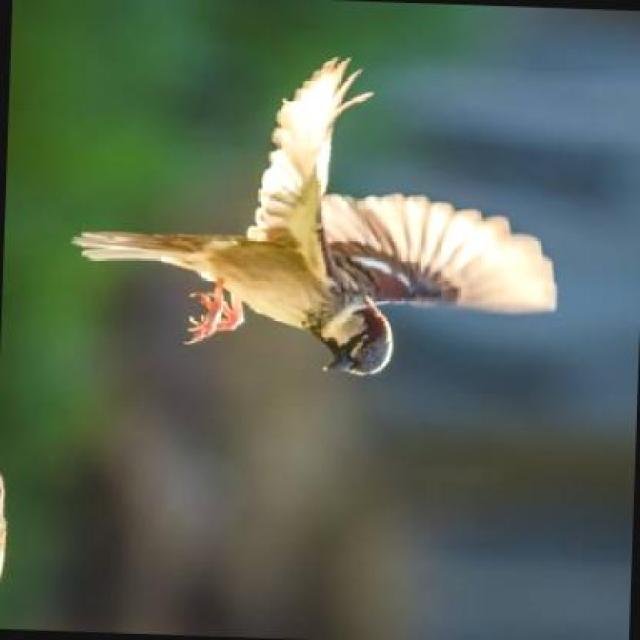Bird: (66, 56, 580, 379)
